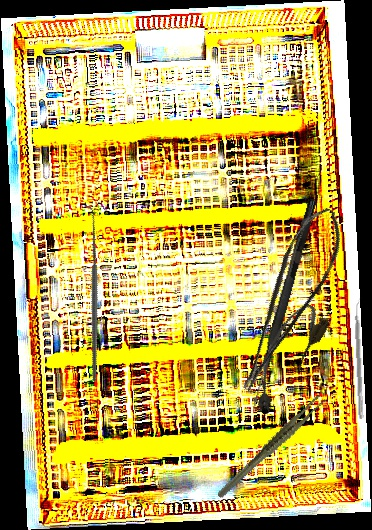Cannula: (237, 297, 334, 420)
Hook Surgical: (11, 204, 170, 383), (250, 197, 317, 410)
Micro Scissor: (209, 199, 361, 396)
Spatula Surgical: (352, 297, 369, 419)
Tissue Forceps: (201, 392, 341, 500)
